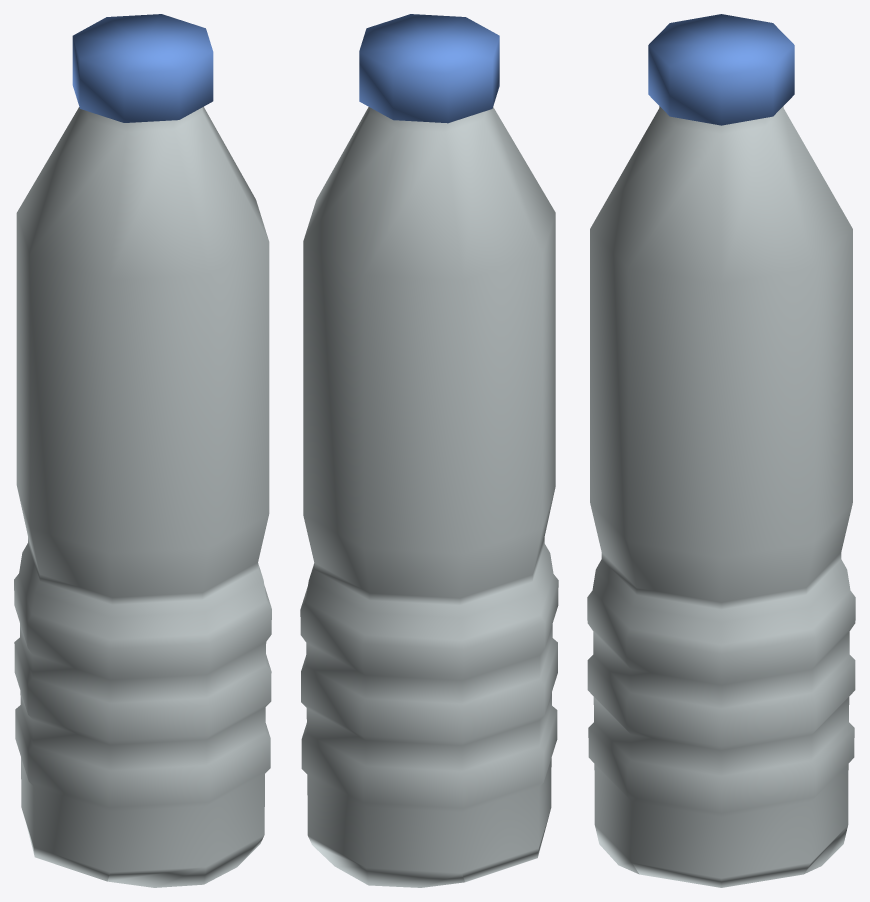
The model's file is plasticBottle.fbx.
The picture shows the model from 3 angles, left to right: view 1: azimuth 30°, elevation 25°; view 2: azimuth 150°, elevation 25°; view 3: azimuth 270°, elevation 25°; orthographic projection.
Parts seen in each view (by area): view 1: pCylinder3; view 2: pCylinder3; view 3: pCylinder3.
Part boxes in pixels (<box>): pCylinder3: <box>14,14,271,887</box>; pCylinder3: <box>300,14,558,887</box>; pCylinder3: <box>587,14,855,887</box>.
Bounding box in the file's own units: 6.8 × 22.4 × 6.82.
